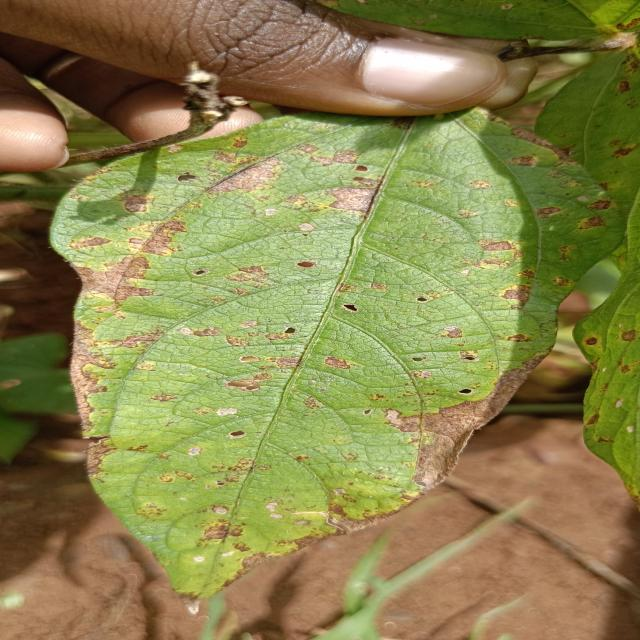Black gram_leaf spot: (49, 91, 640, 598)
